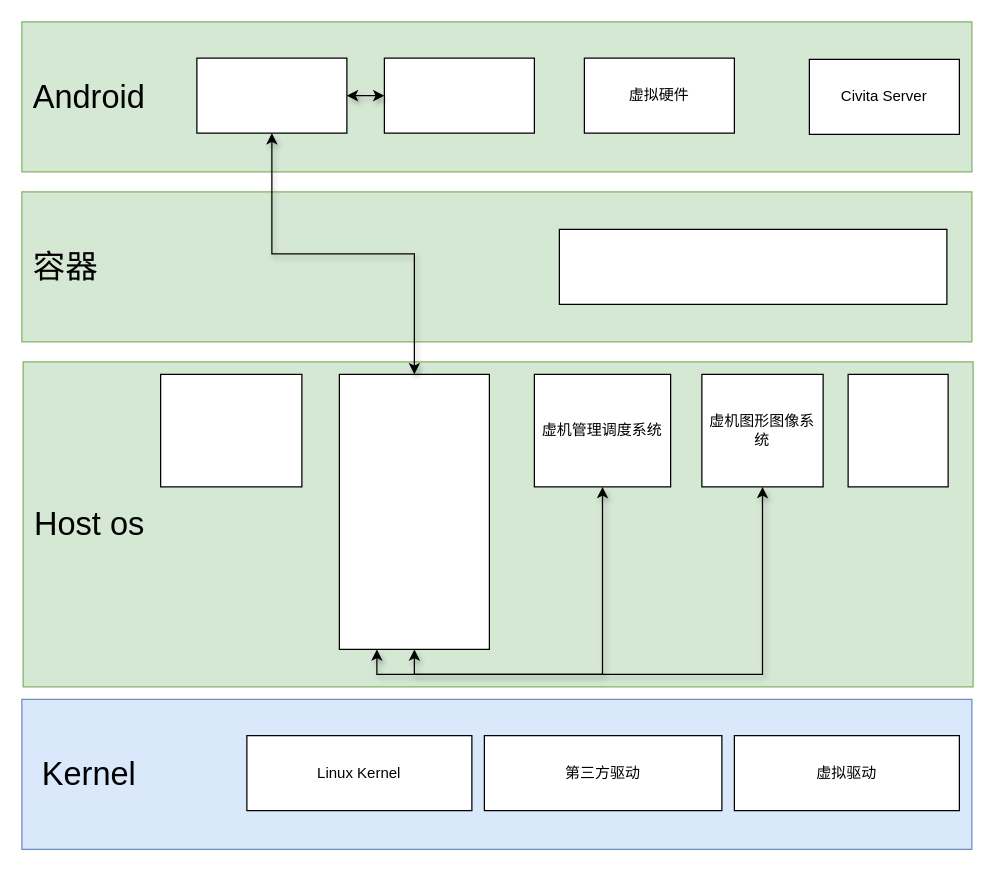
The diagram is 995 pixels wide and 871 high, and some of its shapes have lost their labels. The centre of each missing label's shape, as x and y in pixels:
APK安装控制系统: pixel 897 430
Guest通信系统: pixel 413 511
Host 通信系统: pixel 271 95
图形图像系统: pixel 458 95
服务器通信系统: pixel 230 430
虚拟资源隔离和控制: pixel 752 266
